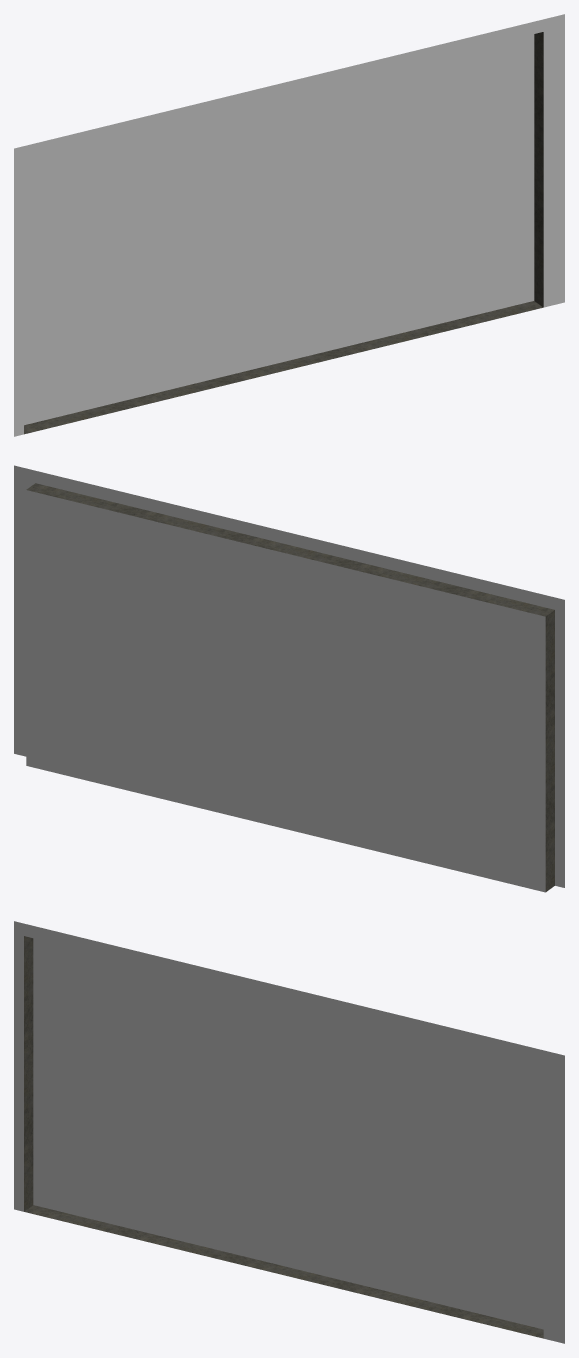
File: CT_door_11.fbx
3 views of the same model, one above another, from view 1: azimuth 30°, elevation 25°; view 2: azimuth 150°, elevation 25°; view 3: azimuth 330°, elevation 25° (orthographic).
Visible parts, largest first — view 1: CT_door_11; view 2: CT_door_11; view 3: CT_door_11.
Part boxes in pixels (x1,y1,x2,y2): CT_door_11: [14, 14, 564, 436]; CT_door_11: [14, 465, 564, 892]; CT_door_11: [14, 921, 564, 1343].
Size of the model in its own units: 512 by 256 by 15.
